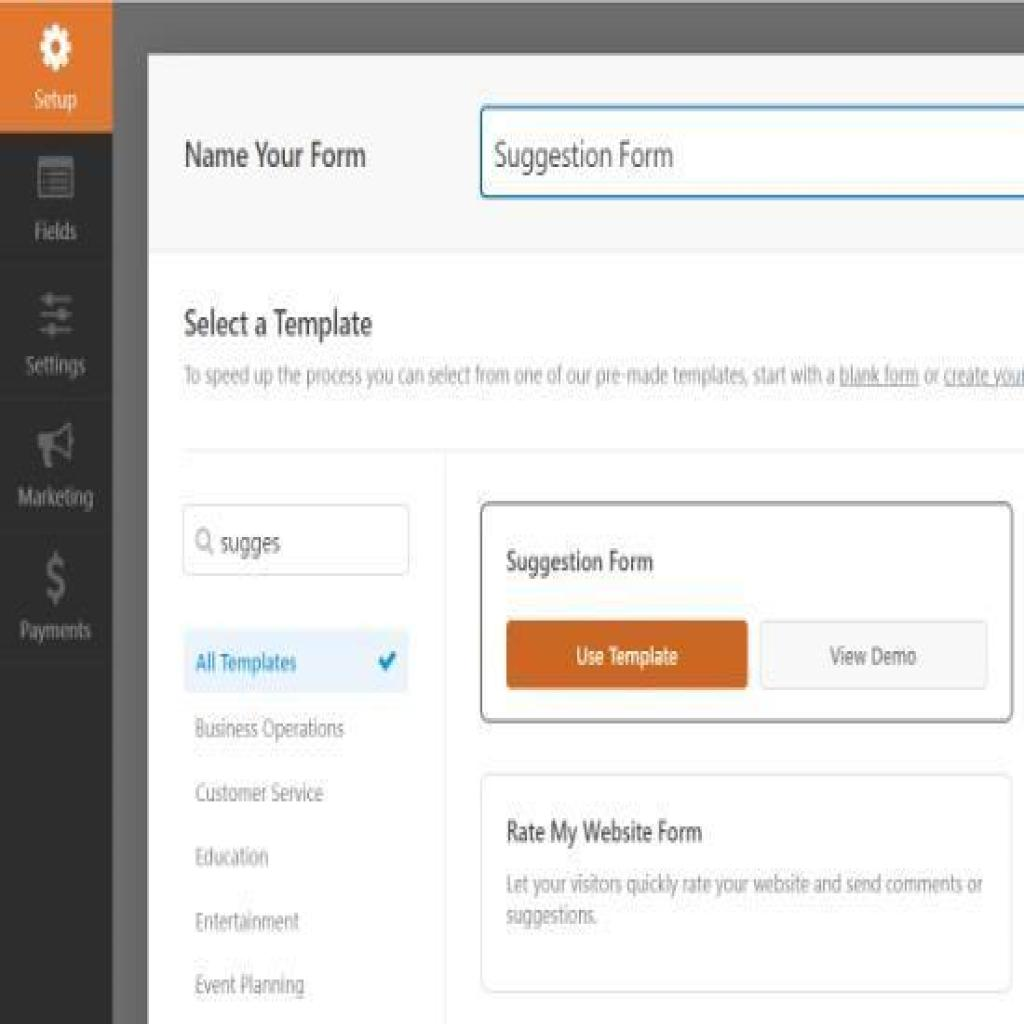button: (506, 618, 750, 687), (761, 618, 987, 690)
icon: (34, 414, 76, 476), (36, 150, 78, 209), (36, 17, 74, 75), (38, 289, 76, 345), (44, 545, 70, 615), (372, 643, 398, 679)
input: (482, 106, 1024, 192), (184, 501, 410, 573)
label: (503, 543, 655, 576)
